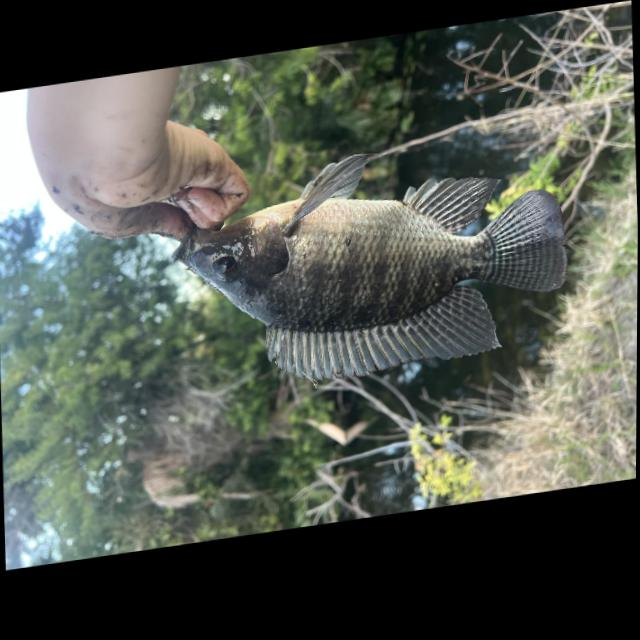Tilapia: (166, 124, 568, 407)
